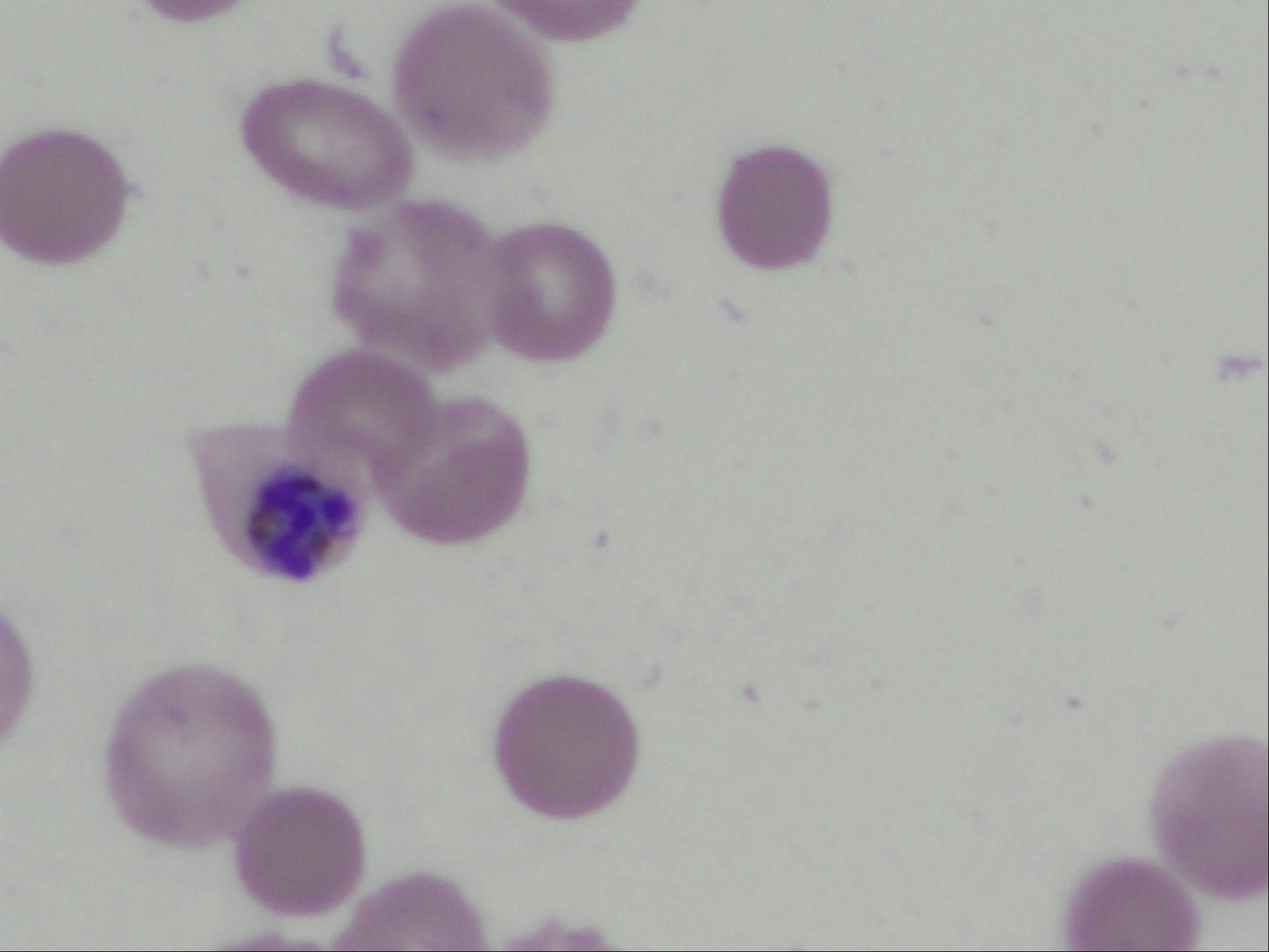Infected: (178, 421, 377, 582)
Uninfected: (337, 184, 498, 378), (108, 668, 282, 845), (397, 5, 545, 160), (366, 395, 521, 541), (242, 82, 416, 210), (1146, 730, 1269, 906), (493, 681, 636, 824), (291, 346, 435, 476), (478, 223, 612, 361), (0, 135, 129, 262), (234, 785, 360, 915), (720, 148, 834, 267), (1064, 853, 1196, 952)
